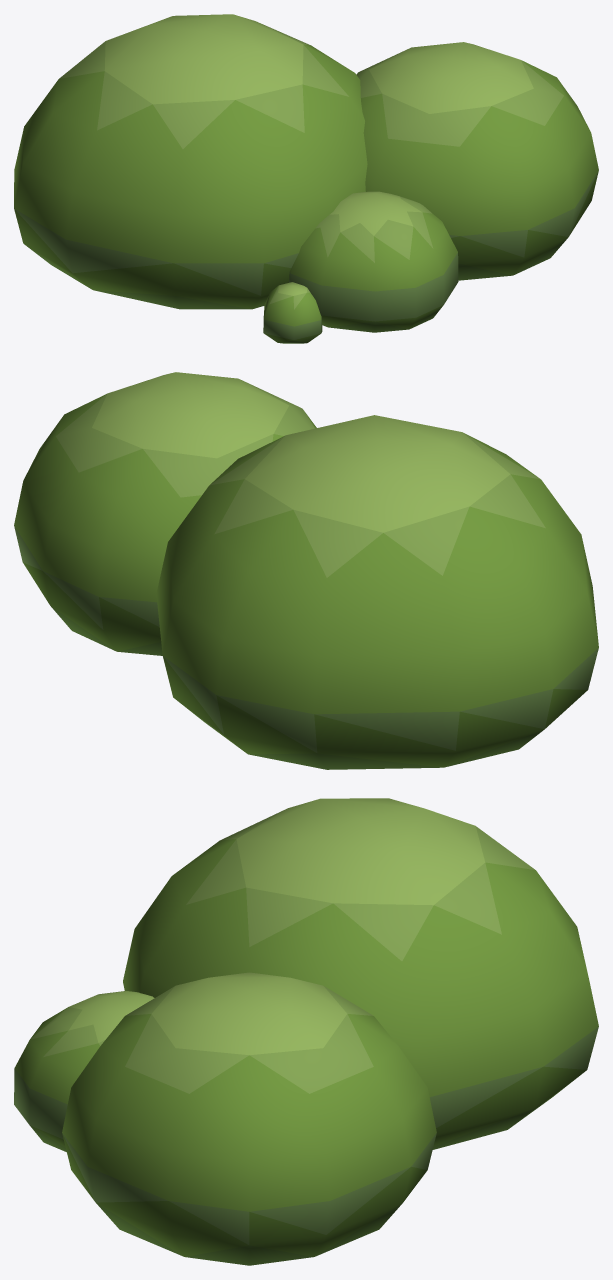
The model's file is itch_kaykit_forest_bush_1_f_color1.glb.
The picture shows the model from 3 angles, top to bottom: view 1: azimuth 30°, elevation 25°; view 2: azimuth 150°, elevation 25°; view 3: azimuth 270°, elevation 25°; orthographic projection. The views are drawn at different scales.
Parts seen in each view (by area): view 1: Bush_1_F_Color1; view 2: Bush_1_F_Color1; view 3: Bush_1_F_Color1.
Boxes of the visible parts, <box> form: Bush_1_F_Color1: <box>14,14,598,343</box>; Bush_1_F_Color1: <box>14,372,598,769</box>; Bush_1_F_Color1: <box>14,798,598,1265</box>.
Bounding box in the file's own units: 0.96 × 0.4179 × 0.7902.
